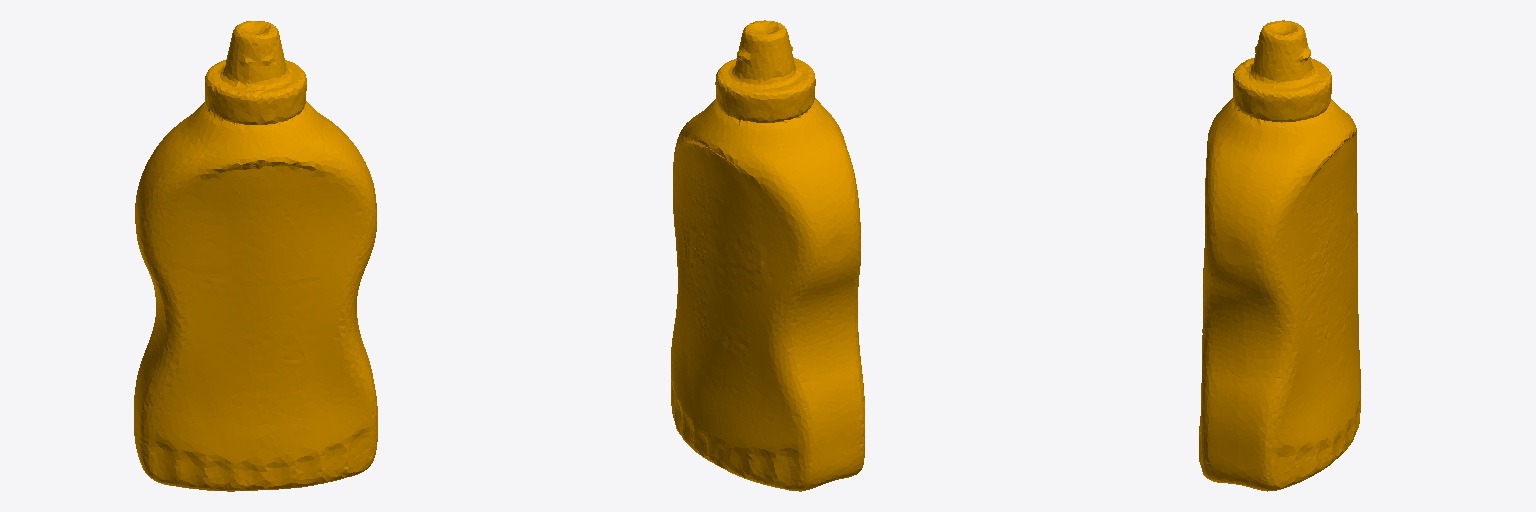
URDF robot description (mustard_bottle_s060):
<robot name="mustard_bottle_s060">
  <link name="object_root">
    <inertial>
      <origin xyz="-0.0001692803260582104 0.0002071797812752152 -0.013450822389105613" rpy="0 0 0" />
      <mass value="0.10262541004620519" />
      <inertia ixx="0.00010743862459585157" iyy="0.00011868359536041334" izz="3.303654474031415e-05" ixy="6.091404993523644e-06" ixz="-1.8774285890214785e-06" iyz="-6.226189513702986e-07" />
    </inertial>
    <collision name="right_object_0">
      <geometry>
        <mesh filename="right_object_0.obj" />
      </geometry>
    </collision>
    <collision name="right_object_1">
      <geometry>
        <mesh filename="right_object_1.obj" />
      </geometry>
    </collision>
    <collision name="right_object_10">
      <geometry>
        <mesh filename="right_object_10.obj" />
      </geometry>
    </collision>
    <collision name="right_object_11">
      <geometry>
        <mesh filename="right_object_11.obj" />
      </geometry>
    </collision>
    <collision name="right_object_12">
      <geometry>
        <mesh filename="right_object_12.obj" />
      </geometry>
    </collision>
    <collision name="right_object_2">
      <geometry>
        <mesh filename="right_object_2.obj" />
      </geometry>
    </collision>
    <collision name="right_object_3">
      <geometry>
        <mesh filename="right_object_3.obj" />
      </geometry>
    </collision>
    <collision name="right_object_4">
      <geometry>
        <mesh filename="right_object_4.obj" />
      </geometry>
    </collision>
    <collision name="right_object_5">
      <geometry>
        <mesh filename="right_object_5.obj" />
      </geometry>
    </collision>
    <collision name="right_object_6">
      <geometry>
        <mesh filename="right_object_6.obj" />
      </geometry>
    </collision>
    <collision name="right_object_7">
      <geometry>
        <mesh filename="right_object_7.obj" />
      </geometry>
    </collision>
    <collision name="right_object_8">
      <geometry>
        <mesh filename="right_object_8.obj" />
      </geometry>
    </collision>
    <collision name="right_object_9">
      <geometry>
        <mesh filename="right_object_9.obj" />
      </geometry>
    </collision>
    <visual name="right_object_visual">
      <geometry>
        <mesh filename="right_object_visual.obj" />
      </geometry>
    </visual>
  </link>
</robot>

--- Render facts (derived) ---
3 views of the same robot in one strip: view 1: azimuth 30°, elevation 25°; view 2: azimuth 150°, elevation 25°; view 3: azimuth 270°, elevation 25° (orthographic).
Model mustard_bottle_s060 with 1 links and 0 joints (none), rooted at object_root, posed all joints at 0.
Visible links, largest first — view 1: object_root; view 2: object_root; view 3: object_root.
Link boxes in pixels (x1=…): object_root: x1=134, y1=21, x2=377, y2=491; object_root: x1=671, y1=20, x2=864, y2=491; object_root: x1=1199, y1=20, x2=1360, y2=491.
Bounding box of the posed robot: 0.0583 × 0.04 × 0.1148 m (x, y, z).
1 mesh visuals loaded from 1 distinct referenced files (1 OBJ).
